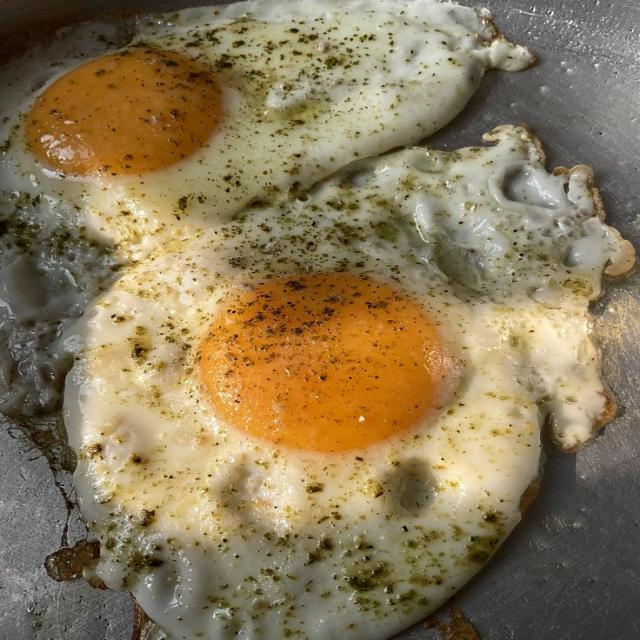fryed egg: (66, 127, 633, 639), (0, 0, 532, 257)
